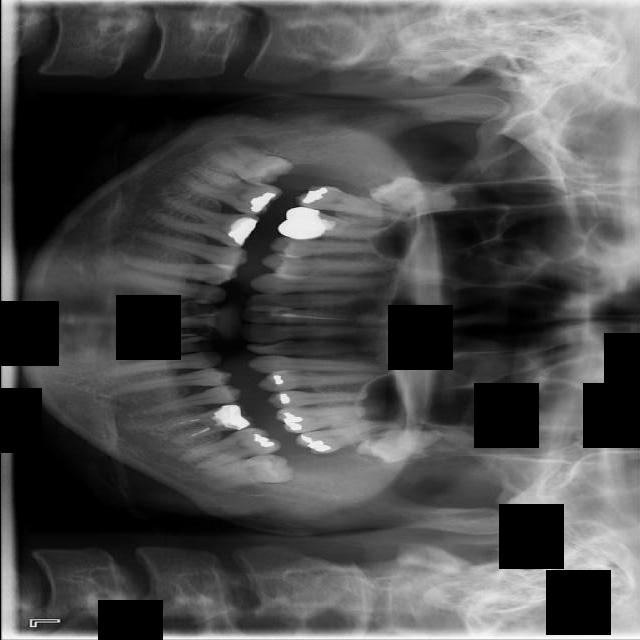3M ESPE Implant: (365, 172, 459, 212)
52: (224, 168, 283, 228), (207, 199, 260, 254), (227, 414, 283, 466), (275, 202, 331, 246), (204, 397, 255, 441), (292, 427, 345, 457), (292, 183, 346, 212), (273, 405, 324, 435), (255, 367, 304, 395), (265, 389, 307, 409), (240, 180, 258, 186)
73: (151, 406, 224, 450), (282, 308, 368, 324), (129, 328, 191, 346), (38, 594, 48, 602)
BioHorizons Implant: (292, 414, 402, 459)
BioLife Implant: (352, 417, 445, 473)
Biomet 3i Implant: (204, 450, 295, 492)
Blue Sky Bio Implant: (176, 420, 282, 476)
Caries: (292, 181, 406, 223)
Implant: (173, 162, 283, 222)
Keystone Dental Implant: (198, 128, 294, 197)
